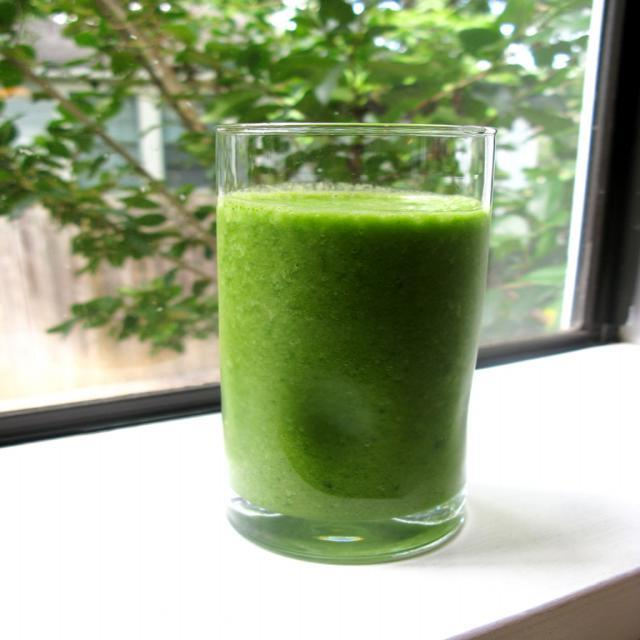Juice: (214, 182, 489, 522)
